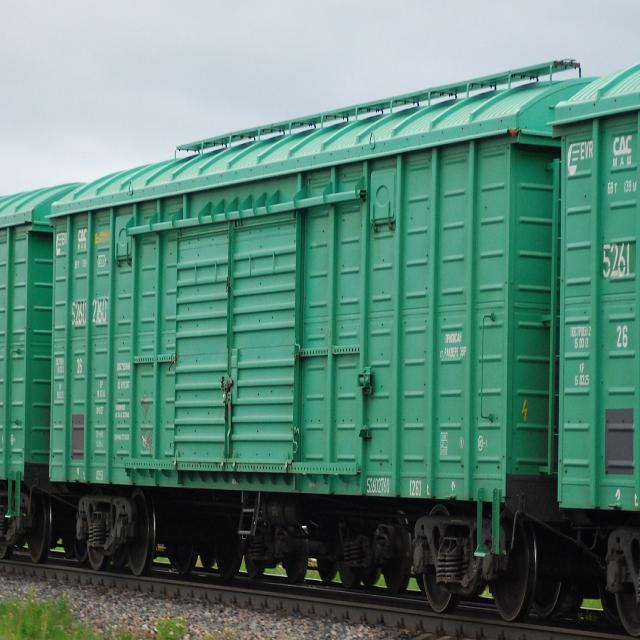Boxcar: (51, 70, 564, 487), (558, 66, 640, 512), (0, 178, 62, 475)
Cart: (406, 506, 536, 621), (76, 492, 160, 582), (0, 479, 55, 566), (605, 526, 640, 636)
